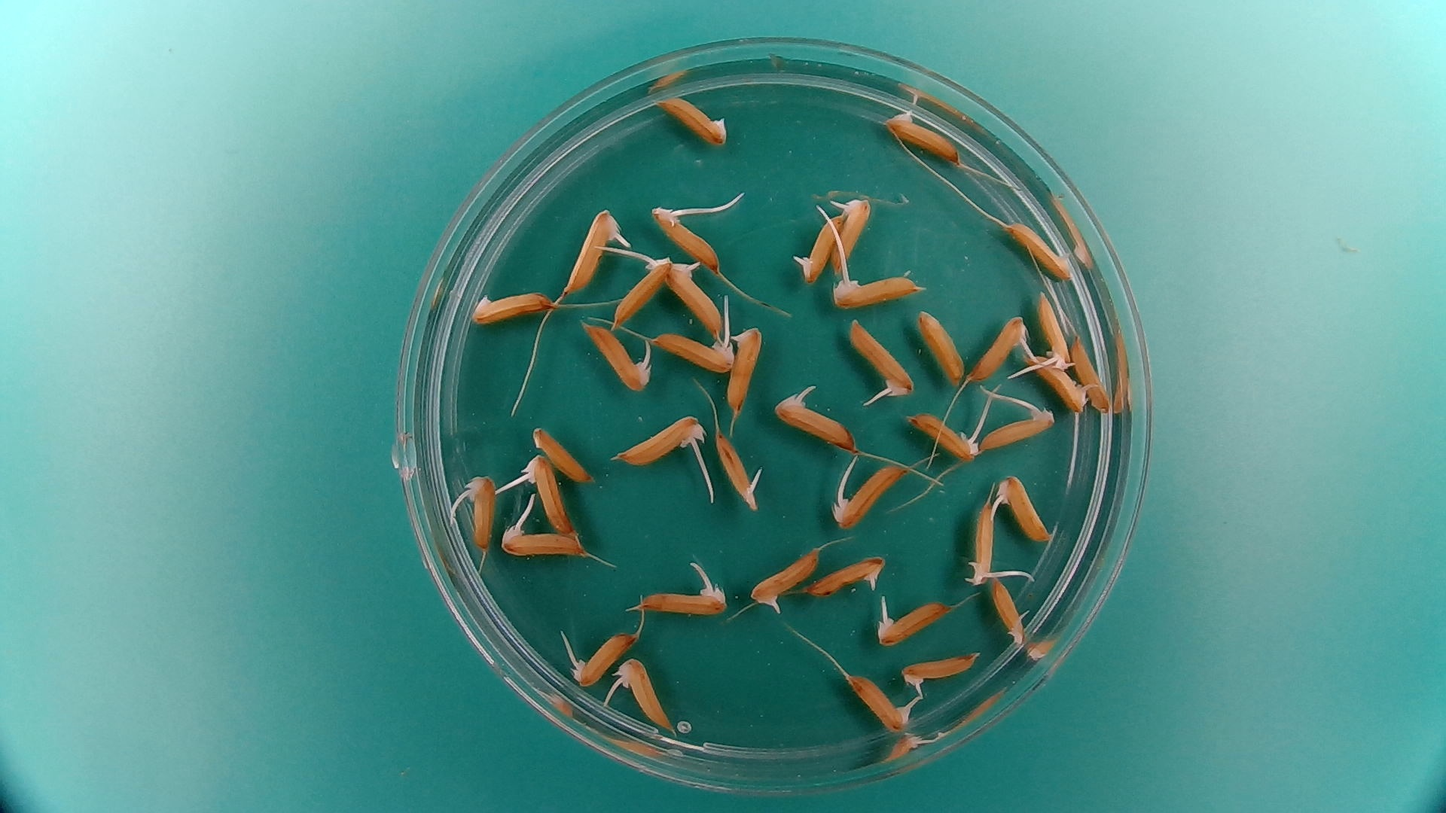no: (880, 104, 965, 165), (651, 96, 731, 148), (725, 319, 766, 419), (529, 424, 593, 484), (917, 310, 964, 388), (1069, 335, 1113, 415), (468, 287, 552, 326)
yes: (772, 382, 862, 452), (613, 409, 708, 470), (829, 458, 909, 530), (853, 318, 920, 394), (649, 207, 725, 273), (579, 320, 649, 391), (749, 544, 823, 611), (563, 209, 619, 296), (667, 255, 727, 336), (609, 252, 671, 327), (968, 313, 1033, 382), (522, 457, 578, 537), (843, 671, 916, 732), (615, 657, 673, 732), (712, 429, 764, 512), (874, 596, 954, 648), (650, 327, 738, 373), (634, 575, 728, 618), (978, 400, 1057, 450), (1003, 222, 1073, 278), (1030, 349, 1090, 414), (992, 478, 1051, 544), (792, 208, 841, 285), (805, 553, 888, 598), (910, 411, 984, 461), (497, 516, 581, 559), (828, 271, 919, 309), (1033, 288, 1074, 372), (457, 471, 500, 551), (566, 632, 627, 687), (988, 574, 1030, 648), (899, 652, 979, 690), (831, 193, 873, 264), (966, 500, 998, 588)
